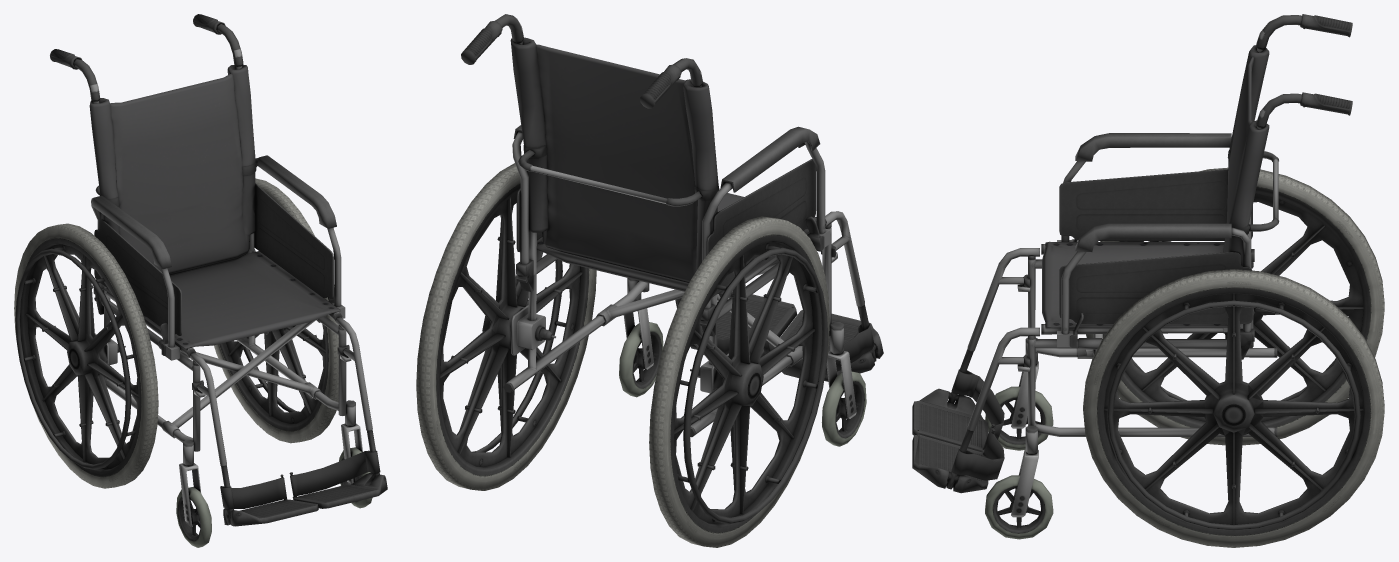
Rendered from wheelchair.glb.
3 renders of one model, left to right at view 1: azimuth 30°, elevation 25°; view 2: azimuth 150°, elevation 25°; view 3: azimuth 270°, elevation 25°, orthographic. The views are drawn at different scales.
Visible parts, largest first — view 1: wheelchair; view 2: wheelchair; view 3: wheelchair.
Boxes of the visible parts, x1,y1,x2,y2 form: wheelchair: [14, 14, 387, 547]; wheelchair: [416, 14, 883, 547]; wheelchair: [912, 14, 1384, 547].
Size of the model in its own units: 0.7095 by 1.22 by 1.19.
Materials: 1 (1 with a texture image).
